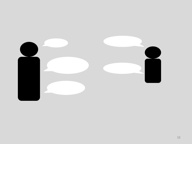left_speech: (42, 53, 90, 77), (41, 80, 90, 98), (41, 35, 69, 50)
right_speech: (100, 31, 145, 49), (100, 59, 144, 77)
